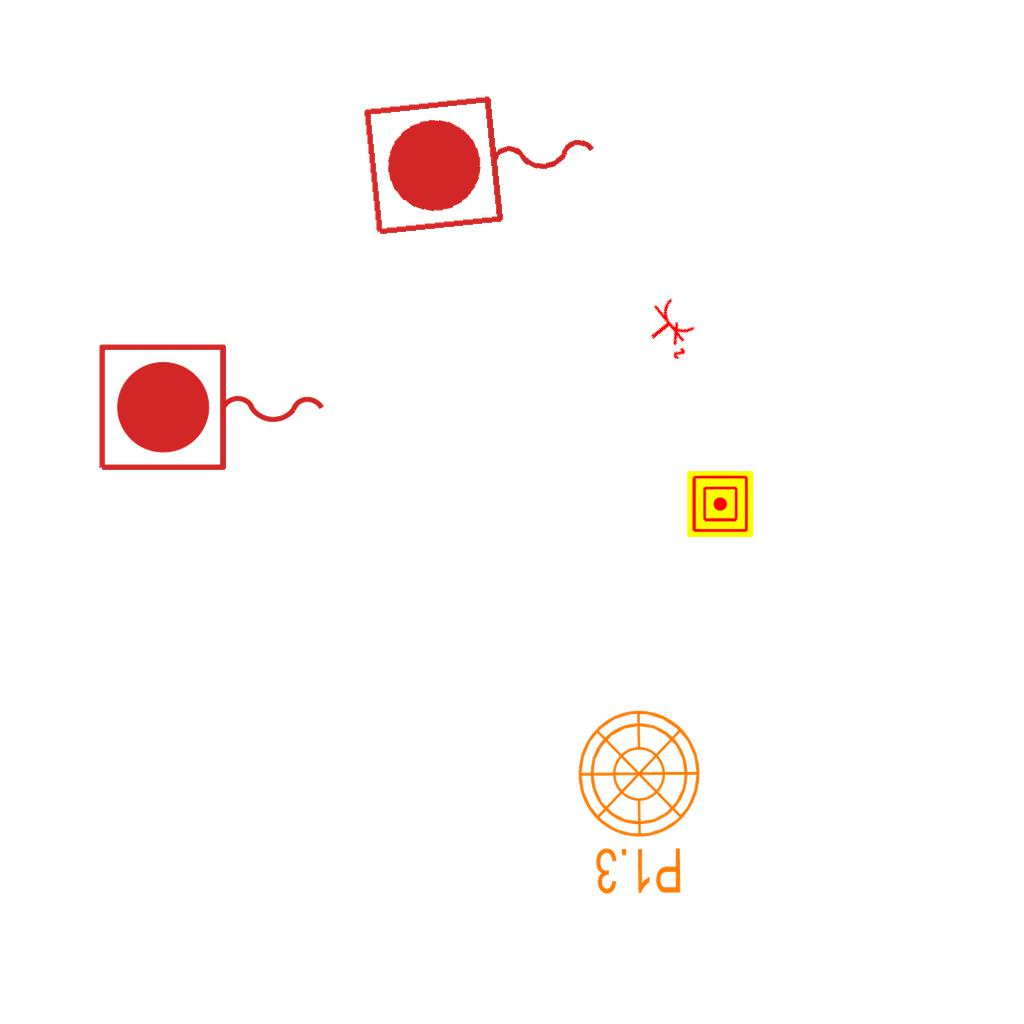Aufbaurundleuchte_LED_Treppenhaus: (564, 707, 703, 912)
NAM-Nichtautomatischer_Melder: (687, 471, 753, 537)
Schukosteckdose_mehrfach: (634, 291, 706, 367)
Zugtaster: (355, 77, 613, 247), (91, 337, 335, 481)
